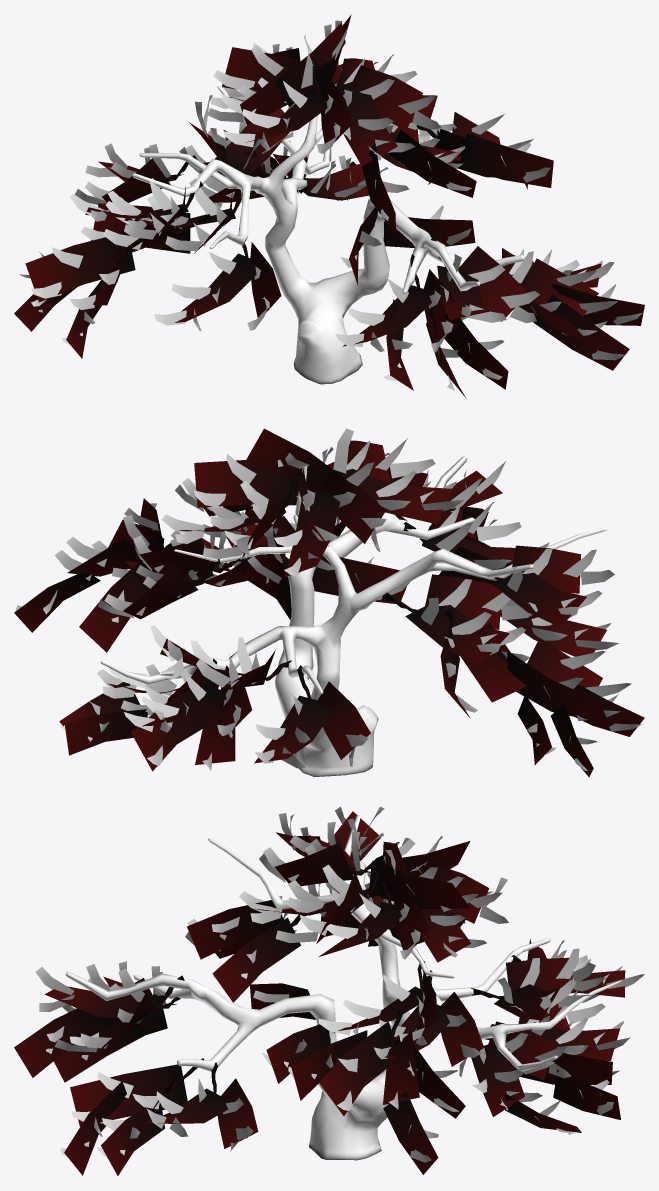
The model's file is Nature_Tree_0_Up.fbx.
3 renders of one model, top to bottom at view 1: azimuth 30°, elevation 25°; view 2: azimuth 150°, elevation 25°; view 3: azimuth 270°, elevation 25°, orthographic. The views are drawn at different scales.
Visible parts, largest first — view 1: Nature_Tree_0_Up_Msh_1, Nature_Tree_0_Up_Msh_0; view 2: Nature_Tree_0_Up_Msh_1, Nature_Tree_0_Up_Msh_0; view 3: Nature_Tree_0_Up_Msh_1, Nature_Tree_0_Up_Msh_0.
Boxes of the visible parts, box(x1,y1,x2,y2) form: Nature_Tree_0_Up_Msh_1: box(14, 14, 644, 398); Nature_Tree_0_Up_Msh_0: box(132, 63, 525, 384); Nature_Tree_0_Up_Msh_1: box(14, 428, 644, 777); Nature_Tree_0_Up_Msh_0: box(100, 456, 607, 776); Nature_Tree_0_Up_Msh_1: box(14, 806, 644, 1175); Nature_Tree_0_Up_Msh_0: box(65, 815, 621, 1160).
Bounding box in the file's own units: 1460 × 843 × 1473.
